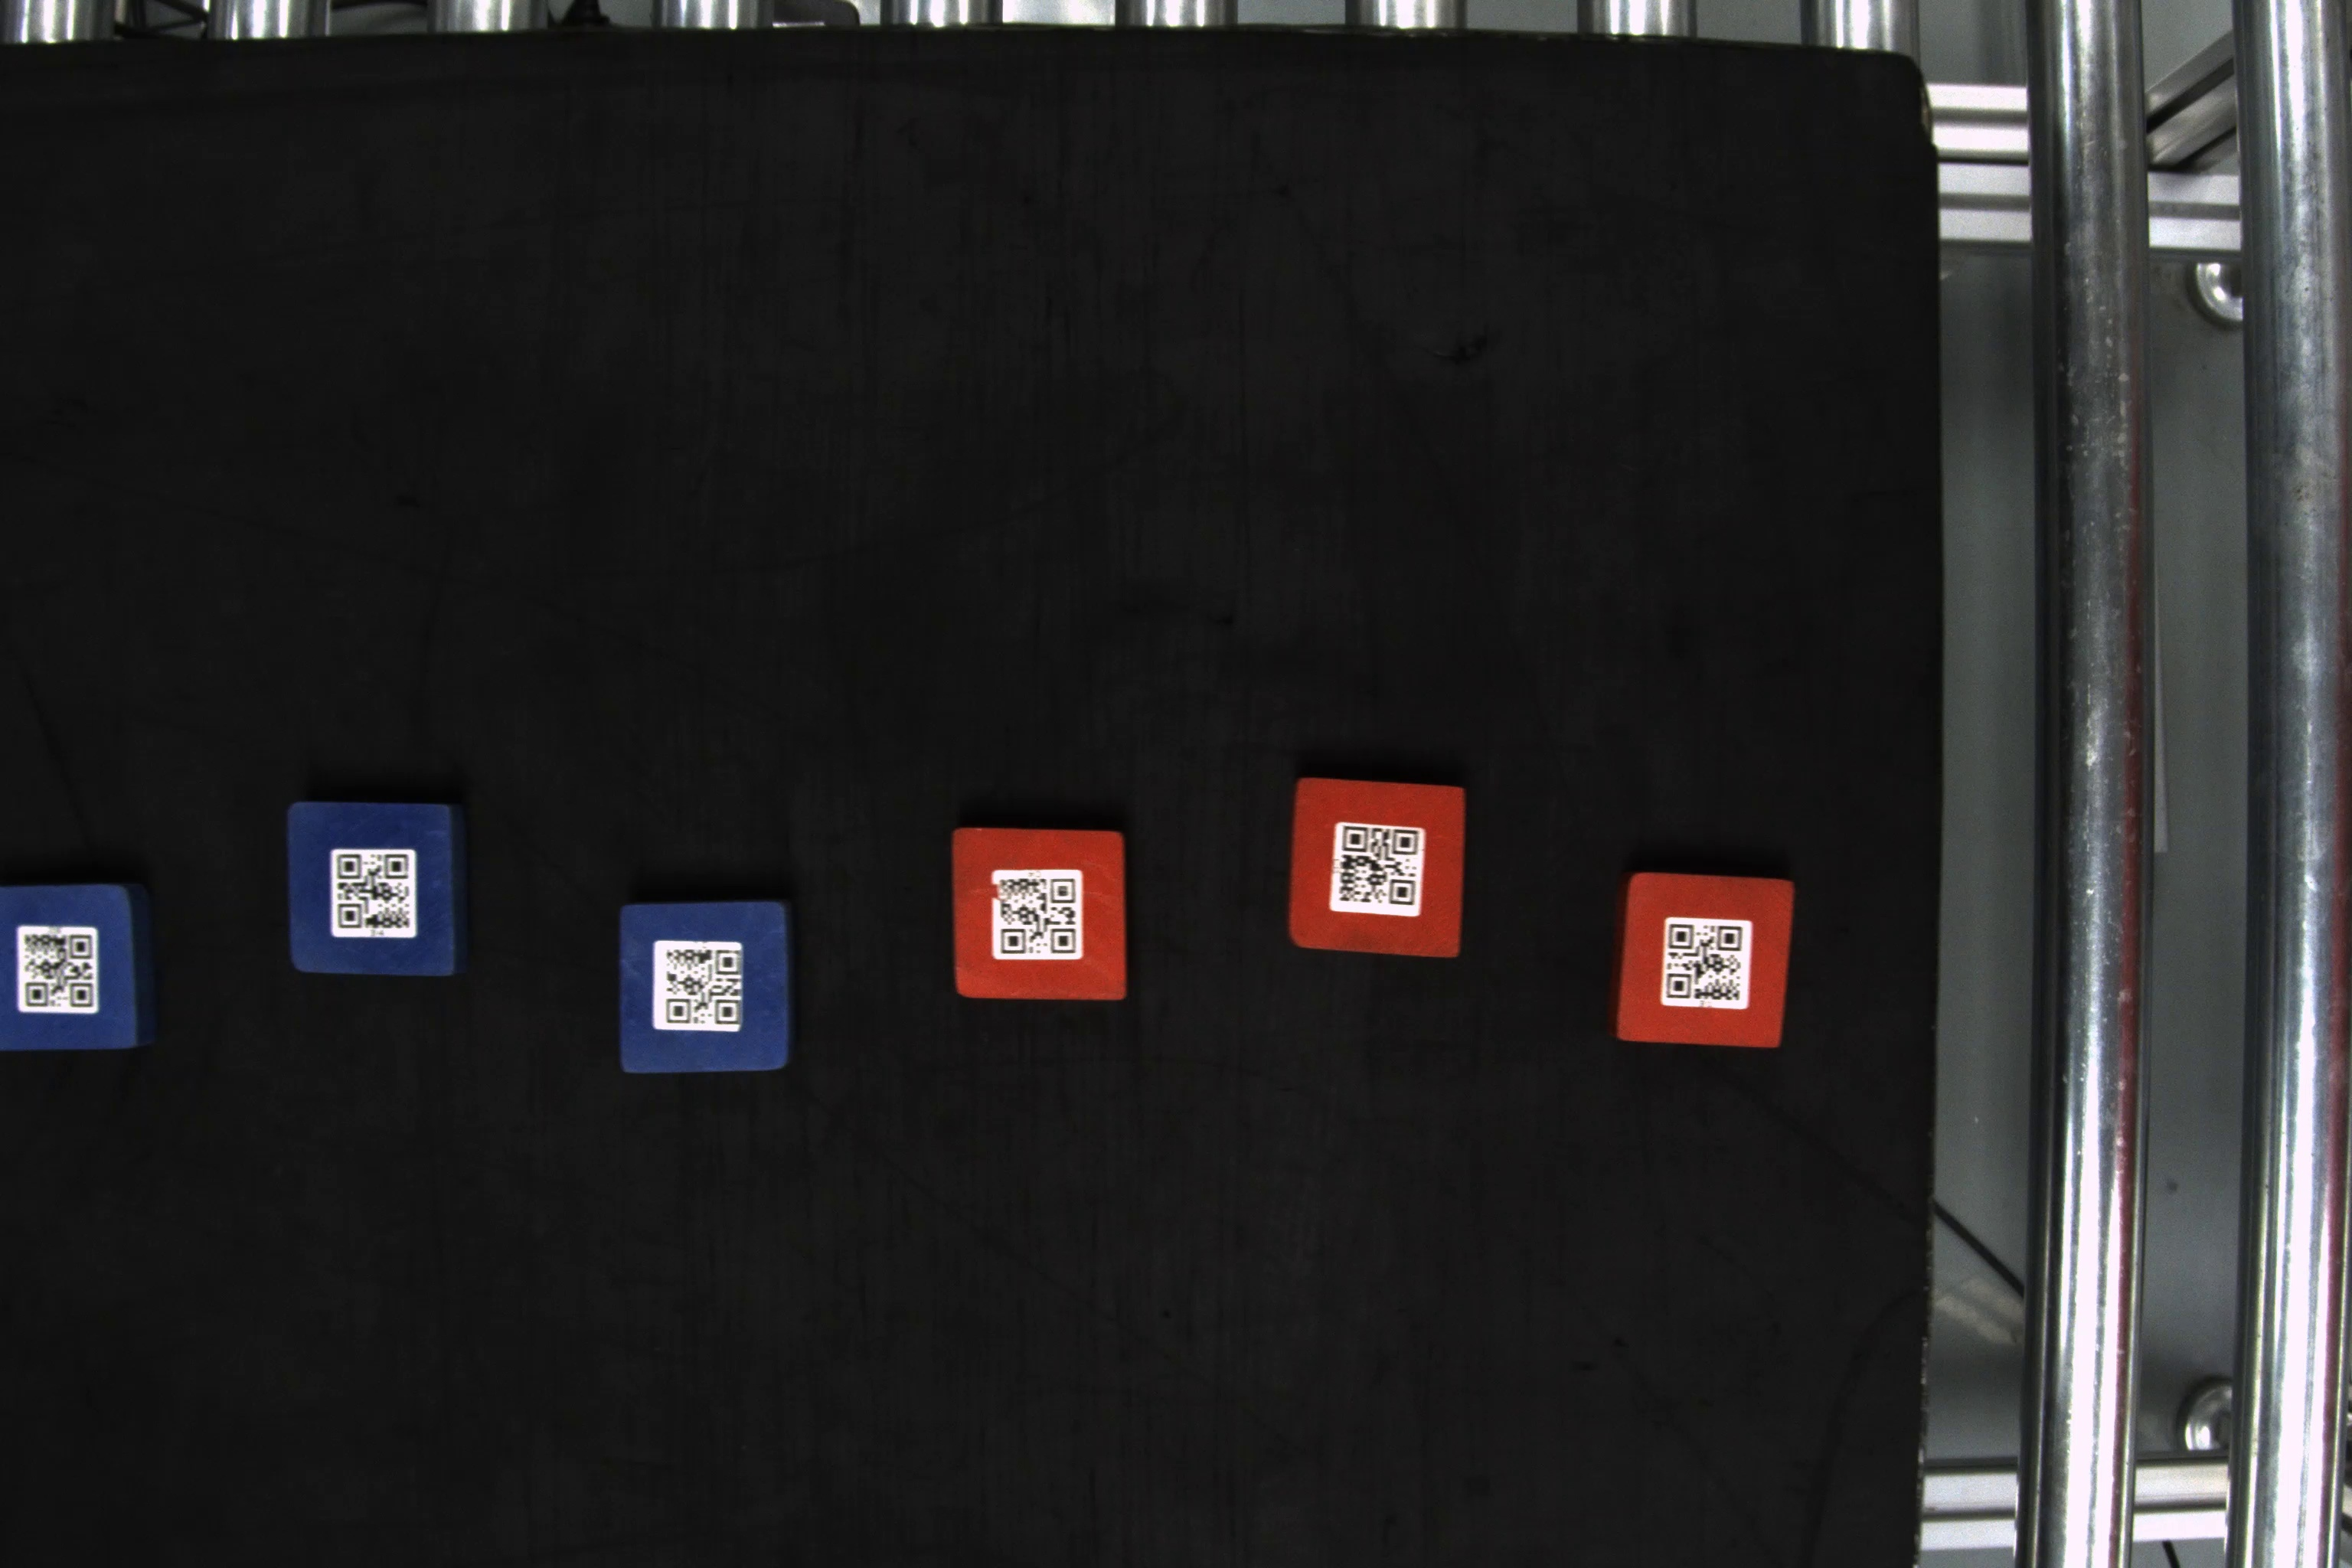wood: (1613, 856, 1799, 1059), (945, 814, 1136, 1003), (282, 794, 467, 980), (1290, 772, 1468, 962), (616, 898, 798, 1074), (0, 875, 159, 1060)
